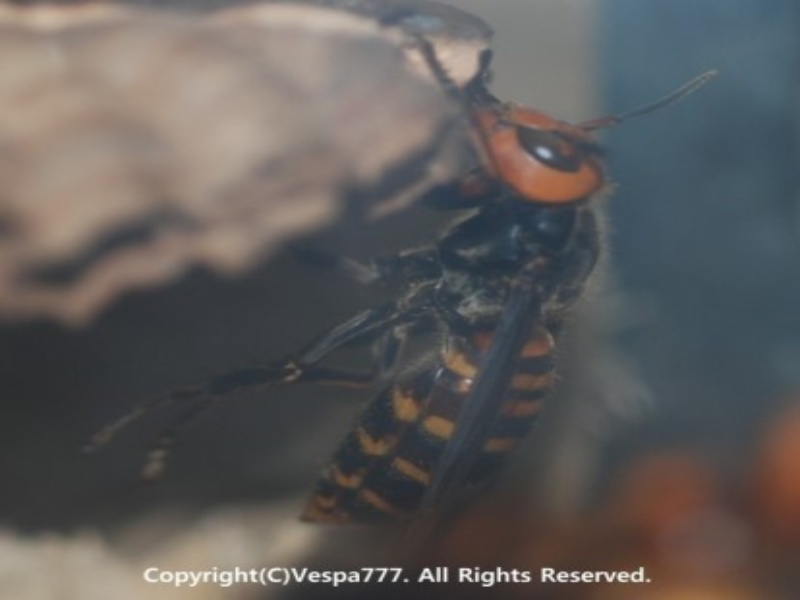asian_giant_hornet: (290, 75, 613, 528)
